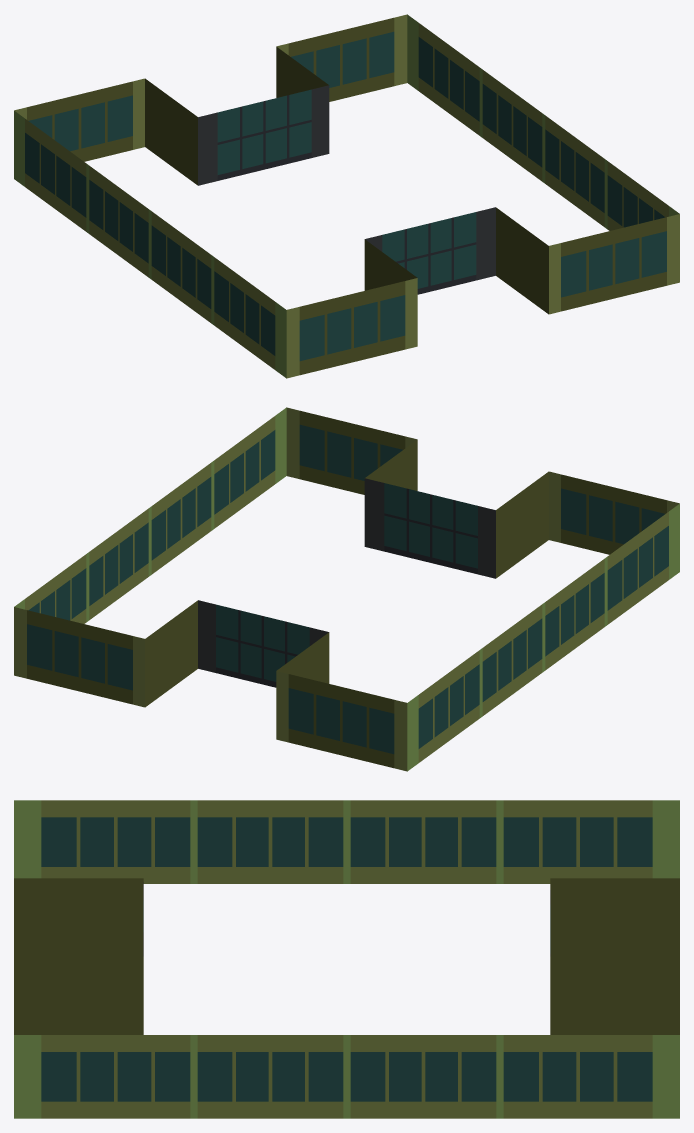
Rendered from TB_CITY_Skysc_T_BodyB_Green.FBX.
3 views of the same model, one above another, from view 1: azimuth 30°, elevation 25°; view 2: azimuth 150°, elevation 25°; view 3: azimuth 270°, elevation 25° (orthographic). The views are drawn at different scales.
Parts seen in each view (by area): view 1: TB_CITY_Skysc_T_BodyB_Green; view 2: TB_CITY_Skysc_T_BodyB_Green; view 3: TB_CITY_Skysc_T_BodyB_Green.
Boxes of the visible parts, x1=… form: TB_CITY_Skysc_T_BodyB_Green: x1=14, y1=14, x2=679, y2=378; TB_CITY_Skysc_T_BodyB_Green: x1=14, y1=407, x2=679, y2=771; TB_CITY_Skysc_T_BodyB_Green: x1=14, y1=800, x2=679, y2=1118.
Bounding box in the file's own units: 30 × 5 × 36.
